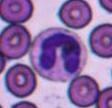N: (31, 27, 86, 81)
